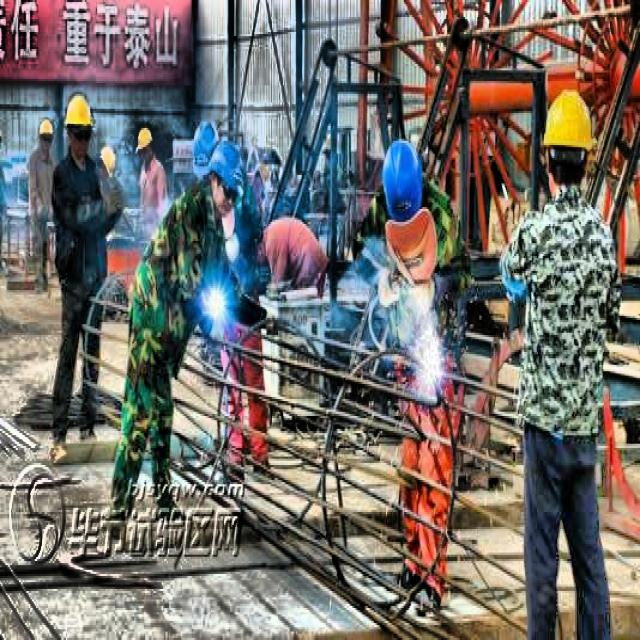helmet: (543, 90, 594, 196), (378, 134, 426, 239), (206, 137, 239, 216), (64, 92, 94, 160), (191, 121, 218, 172), (132, 118, 156, 168), (94, 138, 118, 186), (36, 115, 56, 154)
